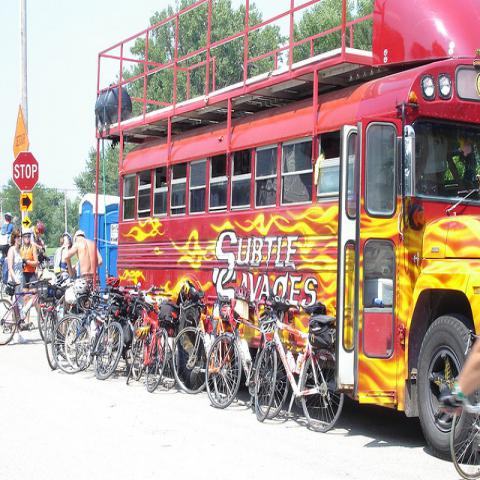bus: (90, 2, 479, 449)
